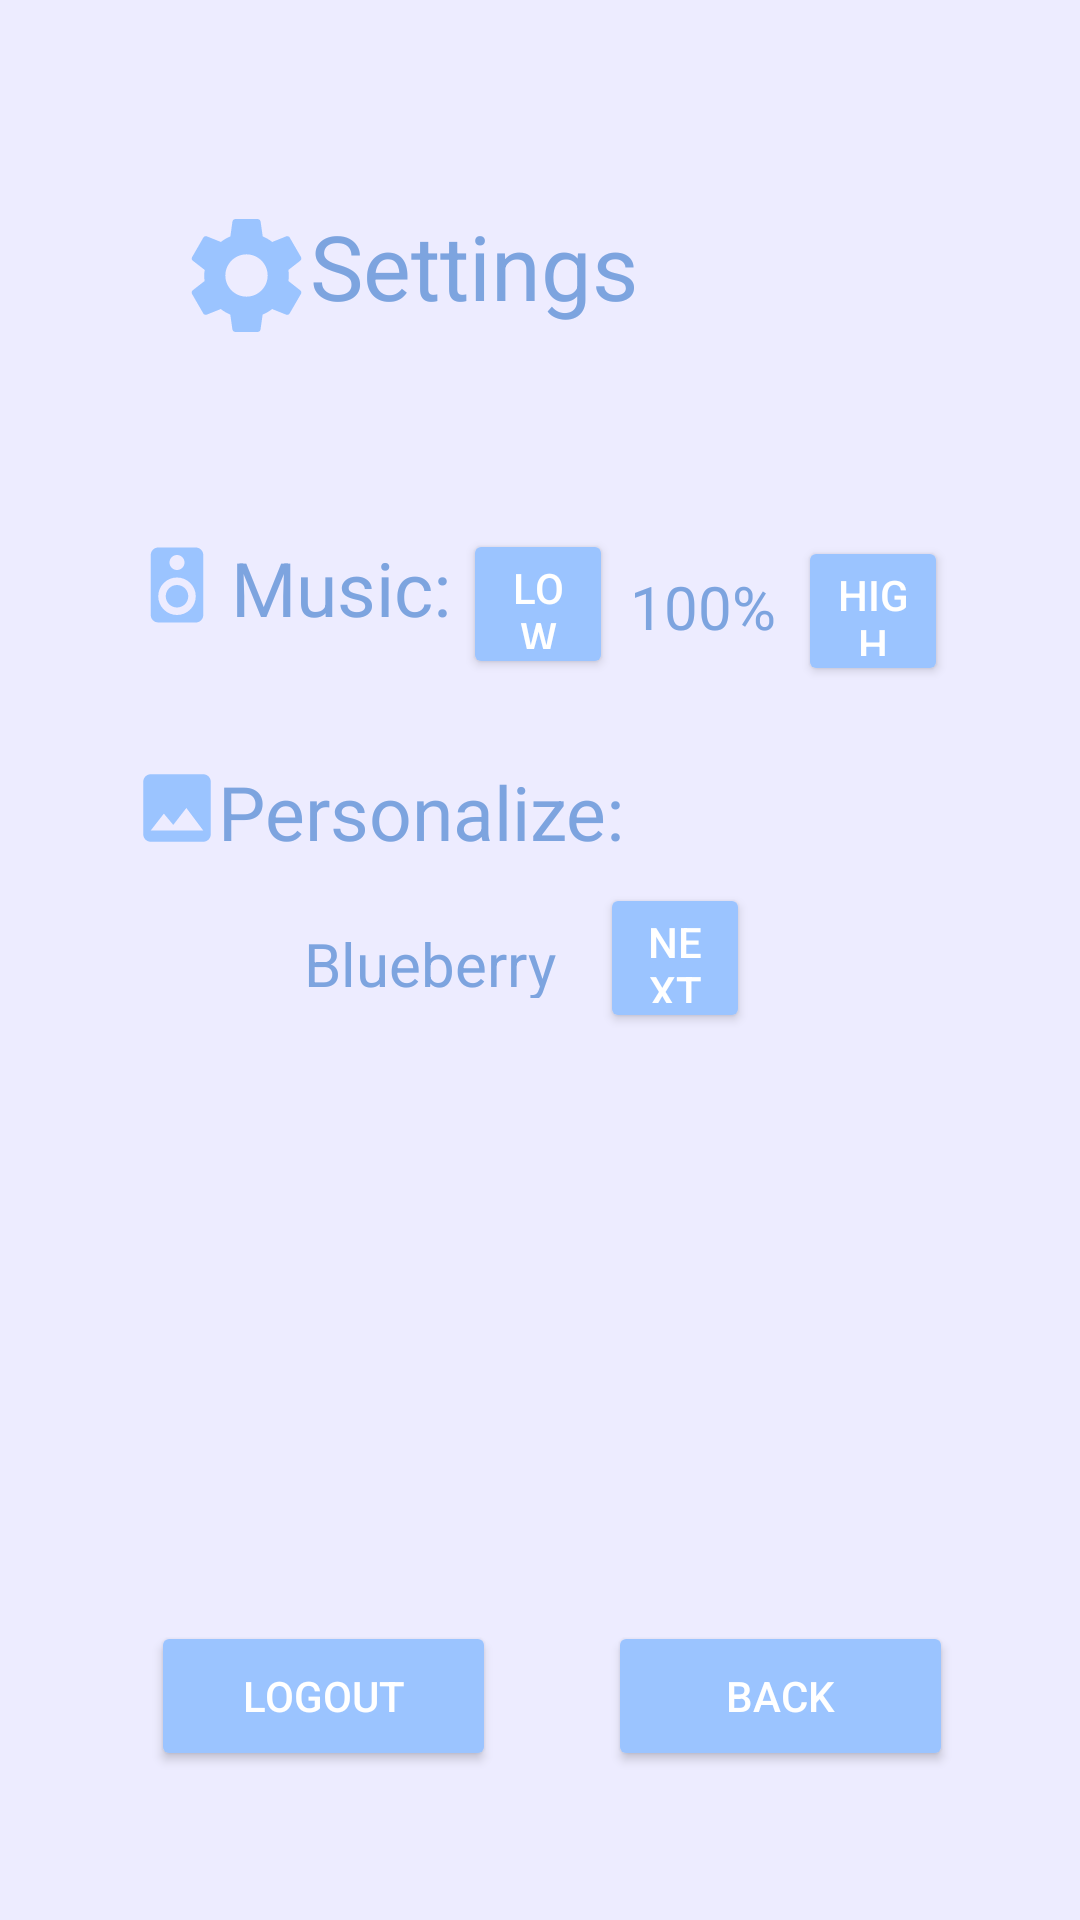

Screen size 1080*1920. Icon name, then its center in pixels as point (x, y):
photo: point (177, 808)
speaker: point (177, 585)
